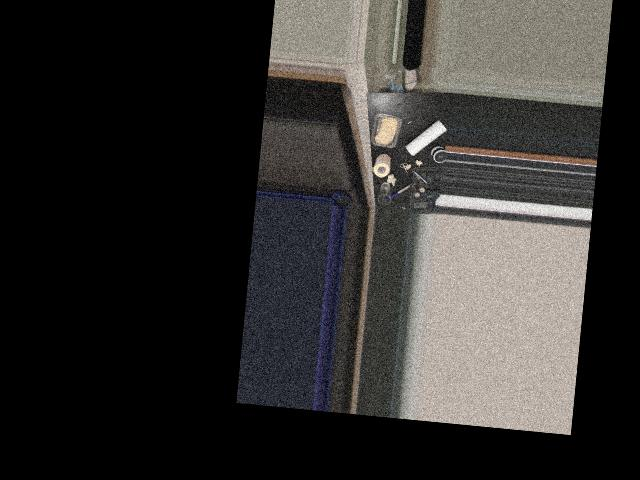cheese: (369, 108, 404, 150)
